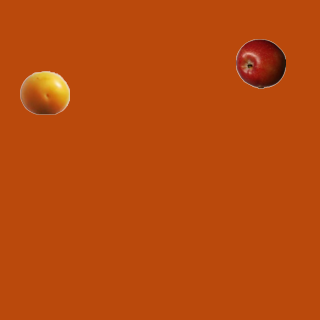Apple Braeburn: (235, 38, 285, 88)
Cherry Wax Yellow: (19, 67, 69, 117)
